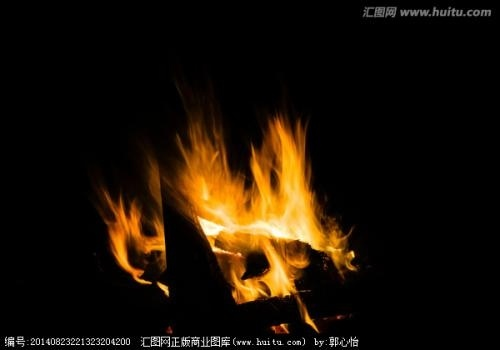fire: (85, 108, 366, 310)
